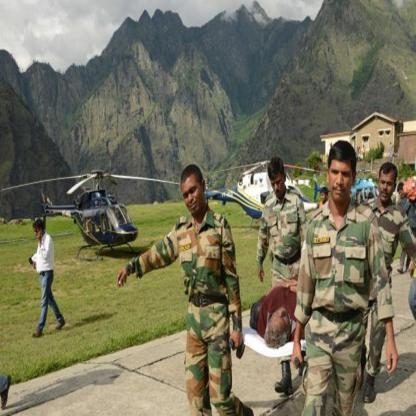face: (330, 160, 354, 201), (183, 179, 203, 216), (380, 172, 396, 202), (274, 307, 290, 328), (272, 176, 285, 198), (321, 189, 327, 203), (34, 227, 41, 239), (399, 190, 405, 198)
